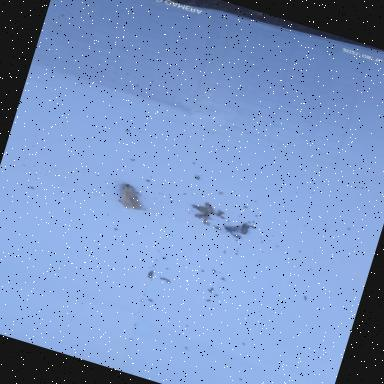abw: (108, 180, 146, 213)
pbw: (202, 202, 216, 215), (237, 222, 250, 235)
